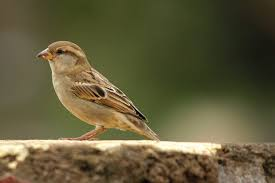hsparrow: (33, 38, 164, 145)
